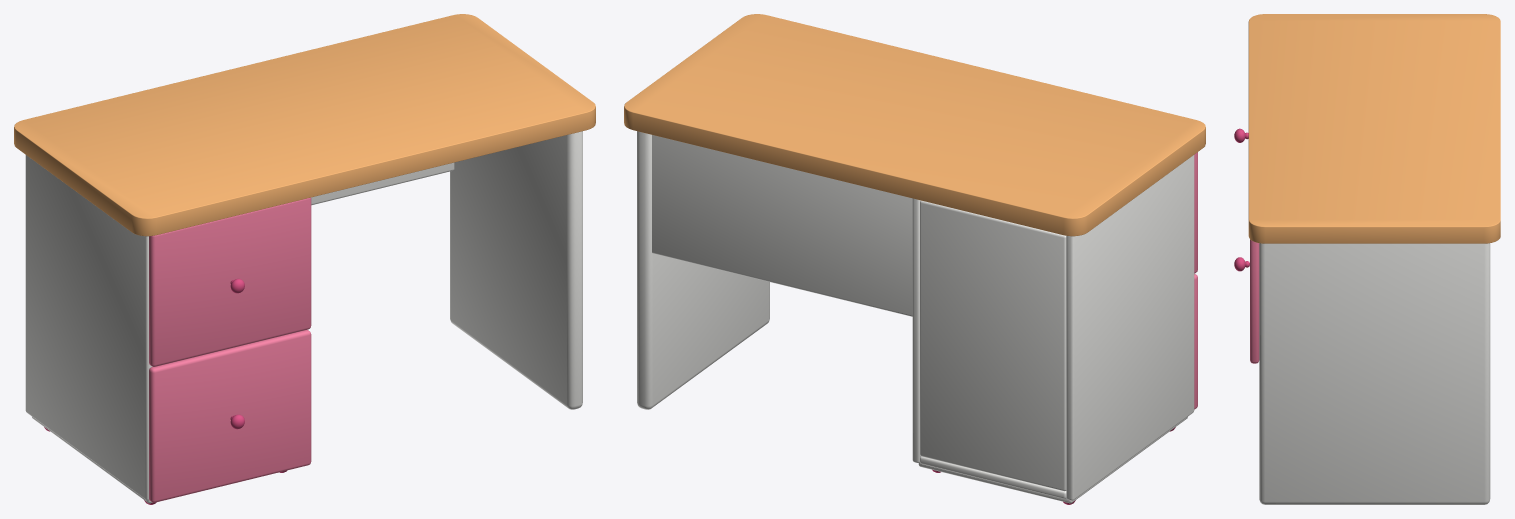
The model's file is escrivaninha_gaveteiro_rosa.glb.
The picture shows the model from 3 angles, left to right: view 1: azimuth 30°, elevation 25°; view 2: azimuth 150°, elevation 25°; view 3: azimuth 270°, elevation 25°; orthographic projection. The views are drawn at different scales.
Parts seen in each view (by area): view 1: escrivaninha_gaveteiro_rosa, gaveta_1, gaveta_2; view 2: escrivaninha_gaveteiro_rosa; view 3: escrivaninha_gaveteiro_rosa, gaveta_1.
Boxes of the visible parts, box(x1,y1,x2,y2) form: escrivaninha_gaveteiro_rosa: box(14, 14, 595, 504); gaveta_1: box(149, 330, 311, 502); gaveta_2: box(149, 197, 311, 366); escrivaninha_gaveteiro_rosa: box(624, 14, 1205, 504); escrivaninha_gaveteiro_rosa: box(1248, 14, 1500, 504); gaveta_1: box(1234, 239, 1259, 363).
Size of the model in its own units: 1.2 by 0.75 by 0.6346.
1 material, 1 textured.
